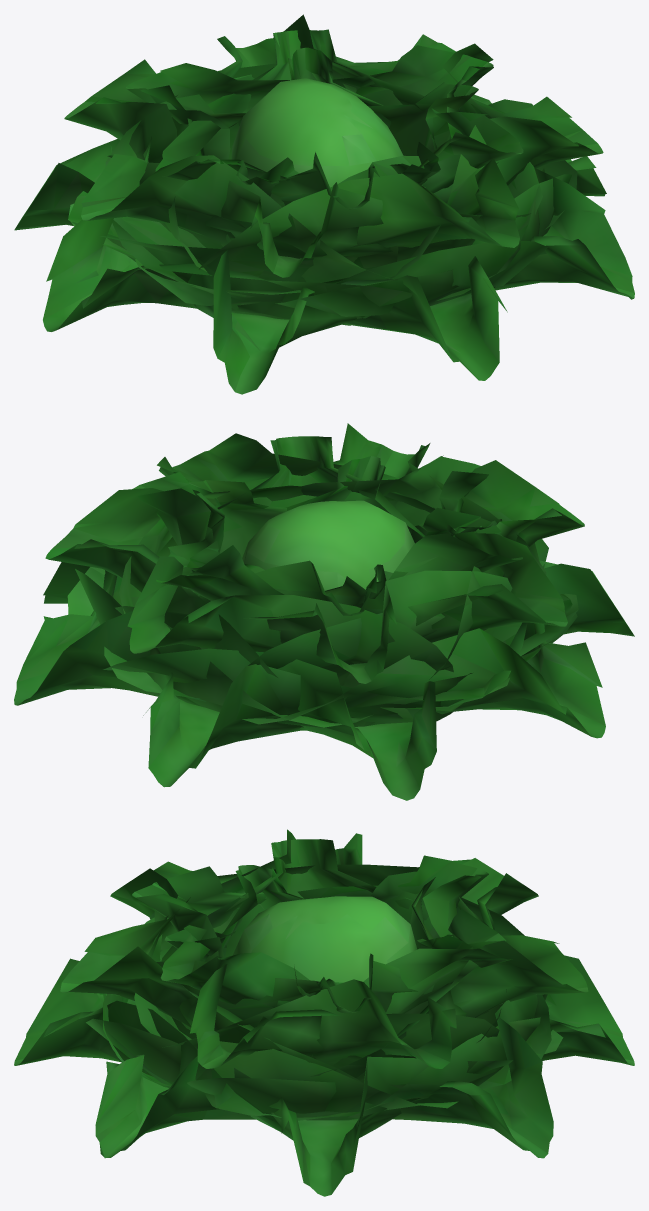
Rendered from crop_basil.glb.
The picture shows the model from 3 angles, top to bottom: view 1: azimuth 30°, elevation 25°; view 2: azimuth 150°, elevation 25°; view 3: azimuth 270°, elevation 25°; orthographic projection. The views are drawn at different scales.
Parts seen in each view (by area): view 1: crop_basil, fruit; view 2: crop_basil, fruit; view 3: crop_basil, fruit.
Part boxes in pixels (bbox=[...]): crop_basil: bbox=[14, 14, 634, 394]; fruit: bbox=[231, 78, 403, 187]; crop_basil: bbox=[14, 423, 634, 800]; fruit: bbox=[242, 500, 414, 590]; crop_basil: bbox=[14, 829, 634, 1196]; fruit: bbox=[232, 896, 417, 982].
Bounding box in the file's own units: 0.2435 × 0.0936 × 0.2435.
Materials: 1 (1 with a texture image).
